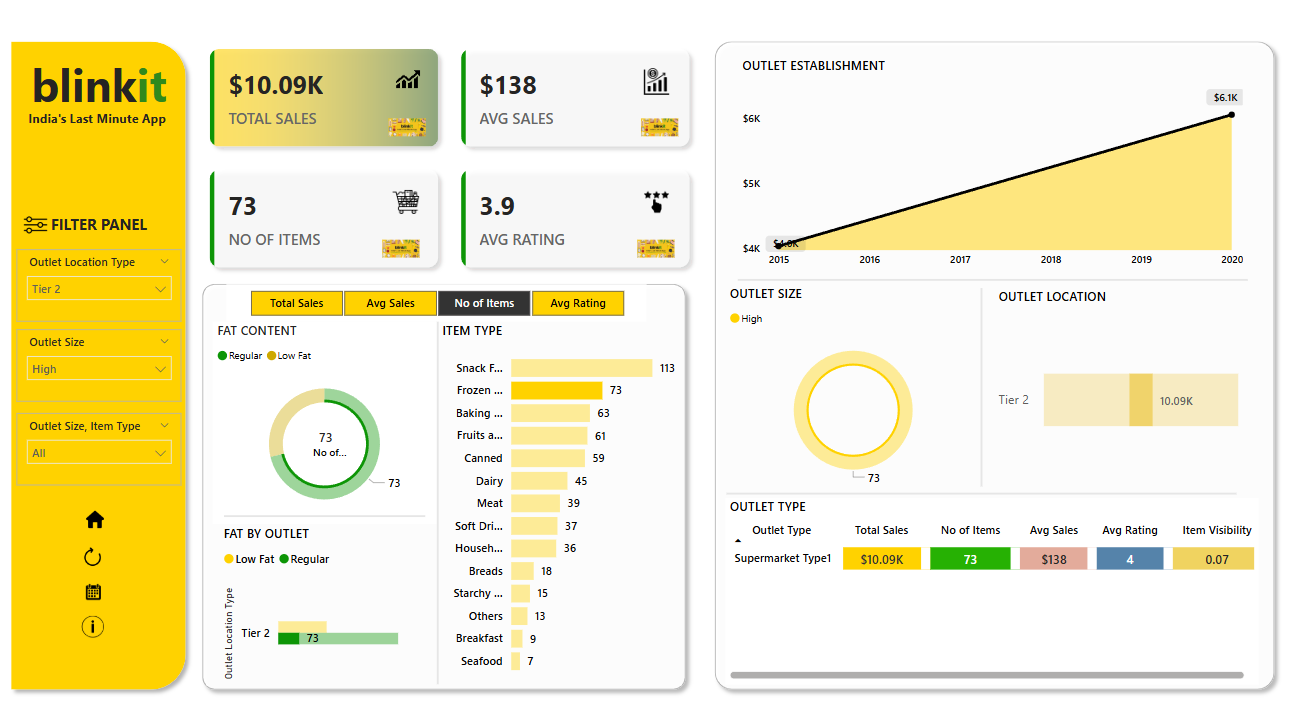

This screenshot's page, from the dashboard's own definition file:
{"tool":"powerbi","page":{"name":"Page 1","canvas":[1400,800],"ordinal":0},"visuals":[{"type":"textbox","box":[10,290,280,280],"z":0},{"type":"shape","box":[9.4,42.9,205.1,713.1],"z":1000},{"type":"textbox","box":[29.5,60.3,166.2,77.7],"z":2000},{"type":"textbox","box":[20.1,120.6,181,36.2],"z":3000},{"type":"cardVisual","fields":{"Data":["BlinkIT Grocery Data.Total Sales","BlinkIT Grocery Data.Avg Sales","BlinkIT Grocery Data.No of Items","BlinkIT Grocery Data.Avg Rating"]},"box":[214.5,42.9,549.6,269.4],"z":4000},{"type":"shape","box":[214.5,303,536.2,453.1],"z":5000},{"type":"donutChart","title":"FAT CONTENT","fields":{"Y":["BlinkIT Grocery Data.Total Sales"],"Category":["BlinkIT Grocery Data.Item Fat Content"]},"box":[234.6,352.5,239.9,217.2],"z":6000},{"type":"slicer","fields":{"Values":["Metrics.Metrics"]},"box":[249.3,312.3,450.4,40.2],"z":7000},{"type":"clusteredBarChart","title":"FAT BY OUTLET ","fields":{"Y":["BlinkIT Grocery Data.Total Sales"],"Category":["BlinkIT Grocery Data.Outlet Location Type"],"Series":["BlinkIT Grocery Data.Item Fat Content"]},"box":[241.3,569.7,227.9,181],"z":8000},{"type":"shape","box":[246.7,552.3,215.8,17.4],"z":9000},{"type":"shape","box":[462.5,352.5,26.8,388.7],"z":10000},{"type":"barChart","title":"ITEM TYPE","fields":{"Y":["BlinkIT Grocery Data.Total Sales"],"Category":["BlinkIT Grocery Data.Item Type"]},"box":[475.9,352.5,262.7,388.7],"z":11000},{"type":"cardVisual","fields":{"Data":["BlinkIT Grocery Data.Total Sales"]},"box":[312.3,450.4,87.1,60.3],"z":12000},{"type":"shape","box":[764.1,42.9,618,713.1],"z":13000},{"type":"lineChart","title":"OUTLET ESTABLISHMENT ","fields":{"Y":["BlinkIT Grocery Data.Total Sales"],"Category":["BlinkIT Grocery Data.Outlet Establishment Year"]},"box":[797.6,68.4,546.9,234.6],"z":14000},{"type":"shape","box":[797.6,303,546.9,9.4],"z":15000},{"type":"donutChart","title":"OUTLET SIZE","fields":{"Y":["BlinkIT Grocery Data.Total Sales"],"Category":["BlinkIT Grocery Data.Outlet Size"]},"box":[784.2,312.3,274.8,225.2],"z":16000},{"type":"shape","box":[1045.6,316.4,26.8,213.1],"z":17000},{"type":"funnel","title":" OUTLET LOCATION","fields":{"Category":["BlinkIT Grocery Data.Outlet Location Type"],"Y":["Sum(BlinkIT Grocery Data.Sales)"]},"box":[1072.4,316.4,272.1,221.2],"z":18000},{"type":"shape","box":[785.5,532.2,546.9,9.4],"z":19000},{"type":"pivotTable","title":"OUTLET TYPE","fields":{"Rows":["BlinkIT Grocery Data.Outlet Type"],"Values":["BlinkIT Grocery Data.Total Sales","BlinkIT Grocery Data.No of Items","BlinkIT Grocery Data.Avg Sales","BlinkIT Grocery Data.Avg Rating","Avg(BlinkIT Grocery Data.Item Visibility)"]},"box":[784.2,541.6,572.4,199.7],"z":20000},{"type":"slicer","fields":{"Values":["BlinkIT Grocery Data.Outlet Location Type"]},"box":[24.1,274.8,176.9,77.7],"z":21000},{"type":"slicer","fields":{"Values":["BlinkIT Grocery Data.Outlet Size"]},"box":[24.1,360.6,176.9,77.7],"z":22000},{"type":"slicer","fields":{"Values":["BlinkIT Grocery Data.Outlet Size","BlinkIT Grocery Data.Item Type"]},"box":[24.1,450.4,176.9,77.7],"z":23000},{"type":"textbox","box":[29.5,231.9,166.2,32.2],"z":24000},{"type":"image","box":[24.4,200.6,40.7,94.9],"z":25000},{"type":"image","box":[80,542.2,55.6,46.1],"z":26000},{"type":"image","box":[85.4,588.3,39.3,32.5],"z":27000},{"type":"image","box":[77.3,620.8,58.3,43.4],"z":28000},{"type":"image","box":[88.1,660.1,35.2,39.3],"z":29000},{"type":"image","box":[412.1,245.4,50.2,56.9],"z":30000},{"type":"image","box":[684.5,245.4,50.2,56.9],"z":31000},{"type":"image","box":[418.9,115.2,50.2,56.9],"z":32000},{"type":"image","box":[688.6,115.2,50.2,56.9],"z":33000}]}

Visuals, with their boxes in screenshot pixels (x1, y1, x2, y2), scaled from the page's 1400x800 canvas onto the 1296x721 screenshot:
textbox: x1=9, y1=261, x2=268, y2=514
shape: x1=9, y1=39, x2=199, y2=681
textbox: x1=27, y1=54, x2=181, y2=124
textbox: x1=19, y1=109, x2=186, y2=141
cardVisual - BlinkIT Grocery Data.Total Sales x BlinkIT Grocery Data.Avg Sales: x1=199, y1=39, x2=707, y2=281
shape: x1=199, y1=273, x2=695, y2=681
"FAT CONTENT" donutChart: x1=217, y1=318, x2=439, y2=513
slicer - Metrics.Metrics: x1=231, y1=281, x2=648, y2=318
"FAT BY OUTLET " clusteredBarChart: x1=223, y1=513, x2=434, y2=677
shape: x1=228, y1=498, x2=428, y2=513
shape: x1=428, y1=318, x2=453, y2=668
"ITEM TYPE" barChart: x1=441, y1=318, x2=684, y2=668
cardVisual - BlinkIT Grocery Data.Total Sales: x1=289, y1=406, x2=370, y2=460
shape: x1=707, y1=39, x2=1279, y2=681
"OUTLET ESTABLISHMENT " lineChart: x1=738, y1=62, x2=1245, y2=273
shape: x1=738, y1=273, x2=1245, y2=282
"OUTLET SIZE" donutChart: x1=726, y1=281, x2=980, y2=484
shape: x1=968, y1=285, x2=993, y2=477
" OUTLET LOCATION" funnel: x1=993, y1=285, x2=1245, y2=485
shape: x1=727, y1=480, x2=1233, y2=488
"OUTLET TYPE" pivotTable: x1=726, y1=488, x2=1256, y2=668
slicer - BlinkIT Grocery Data.Outlet Location Type: x1=22, y1=248, x2=186, y2=318
slicer - BlinkIT Grocery Data.Outlet Size: x1=22, y1=325, x2=186, y2=395
slicer - BlinkIT Grocery Data.Outlet Size x BlinkIT Grocery Data.Item Type: x1=22, y1=406, x2=186, y2=476
textbox: x1=27, y1=209, x2=181, y2=238
image: x1=23, y1=181, x2=60, y2=266
image: x1=74, y1=489, x2=126, y2=530
image: x1=79, y1=530, x2=115, y2=559
image: x1=72, y1=559, x2=126, y2=599
image: x1=82, y1=595, x2=114, y2=630
image: x1=381, y1=221, x2=428, y2=272
image: x1=634, y1=221, x2=680, y2=272
image: x1=388, y1=104, x2=434, y2=155
image: x1=637, y1=104, x2=684, y2=155
